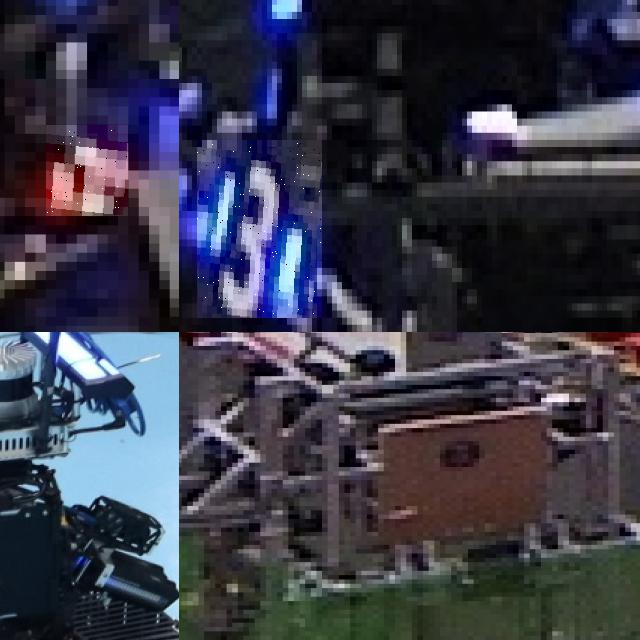B3: (197, 140, 322, 318)
R2: (46, 125, 128, 216)
